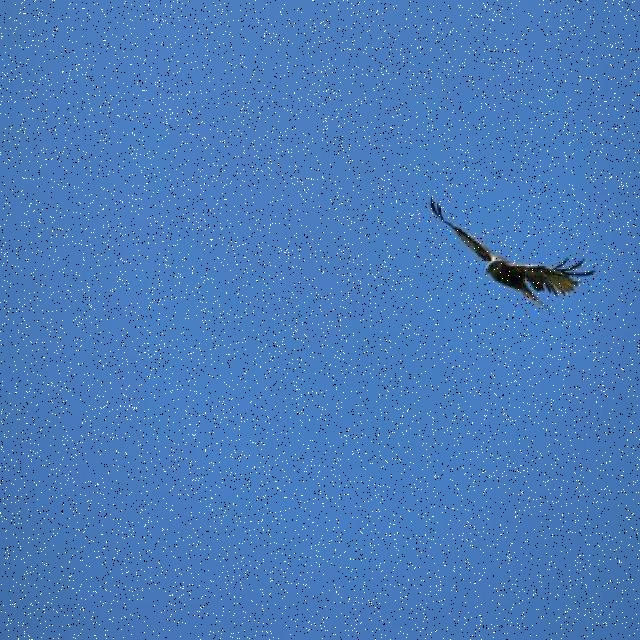bird: (430, 194, 598, 320)
